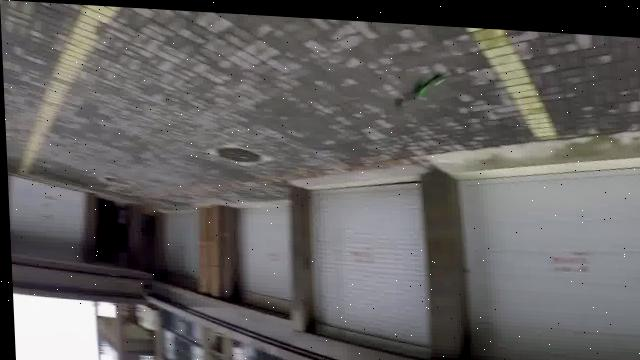drone: (391, 65, 448, 112)
